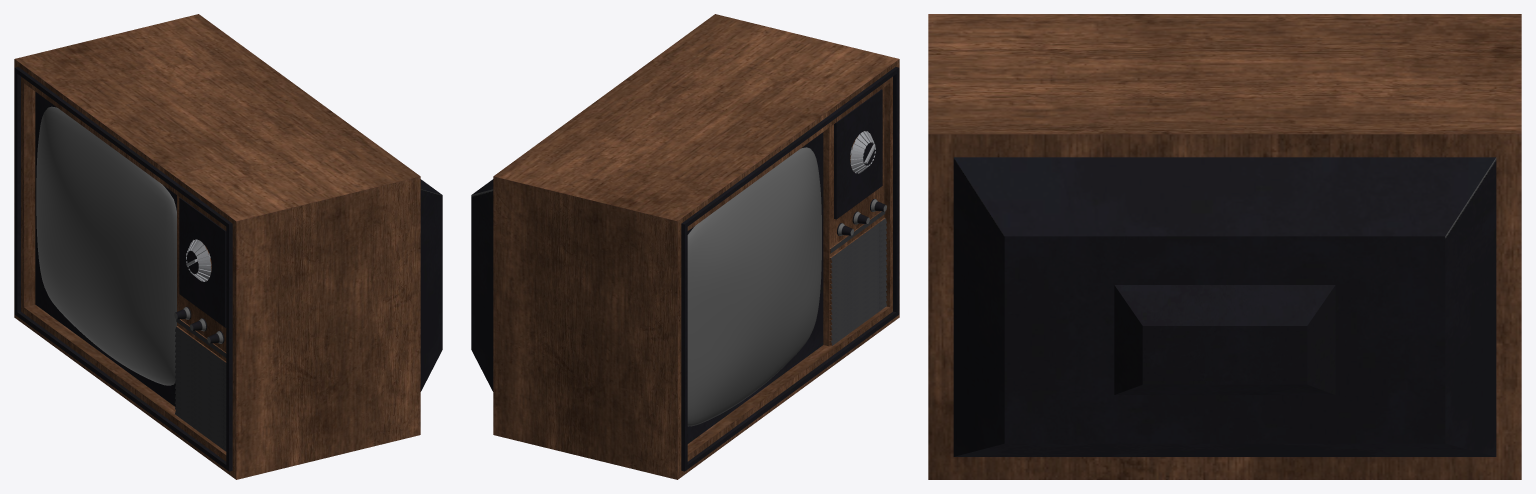
3 views of the same model, side by side, from view 1: azimuth 30°, elevation 25°; view 2: azimuth 150°, elevation 25°; view 3: azimuth 270°, elevation 25° (orthographic). The views are drawn at different scales.
Visible parts, largest first — view 1: TV_Untitled; view 2: TV_Untitled; view 3: TV_Untitled.
Boxes of the visible parts, x1,y1,x2,y2 form: TV_Untitled: (14,14,442,479); TV_Untitled: (471,14,899,479); TV_Untitled: (928,14,1521,479).
Bounding box in the file's own units: 1.41 × 1.29 × 2.
1 material, 1 textured.
